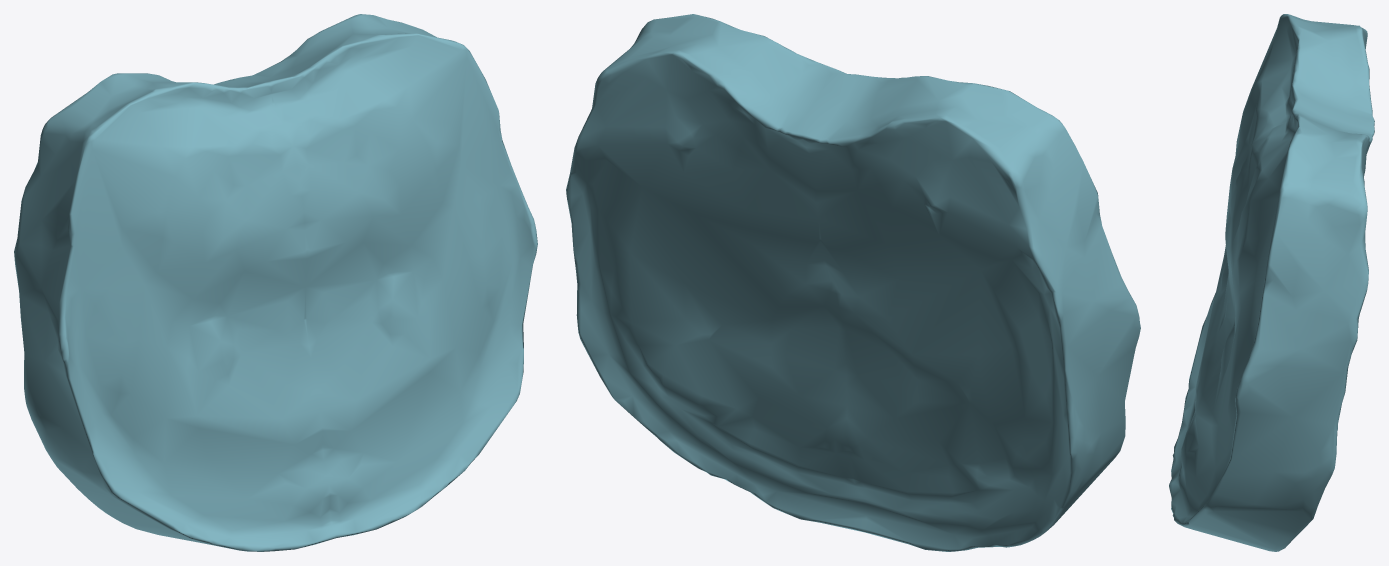
The picture shows the model from 3 angles, left to right: view 1: azimuth 30°, elevation 25°; view 2: azimuth 150°, elevation 25°; view 3: azimuth 270°, elevation 25°; orthographic projection. The views are drawn at different scales.
Visible parts, largest first — view 1: 胸10—胸11椎间盘; view 2: 胸10—胸11椎间盘; view 3: 胸10—胸11椎间盘.
Part boxes in pixels (left/top/right/bottom): 胸10—胸11椎间盘: left=14, top=14, right=537, bottom=551; 胸10—胸11椎间盘: left=566, top=14, right=1140, bottom=551; 胸10—胸11椎间盘: left=1169, top=14, right=1374, bottom=551.
Size of the model in its own units: 0.0598 by 0.0541 by 0.0234.
